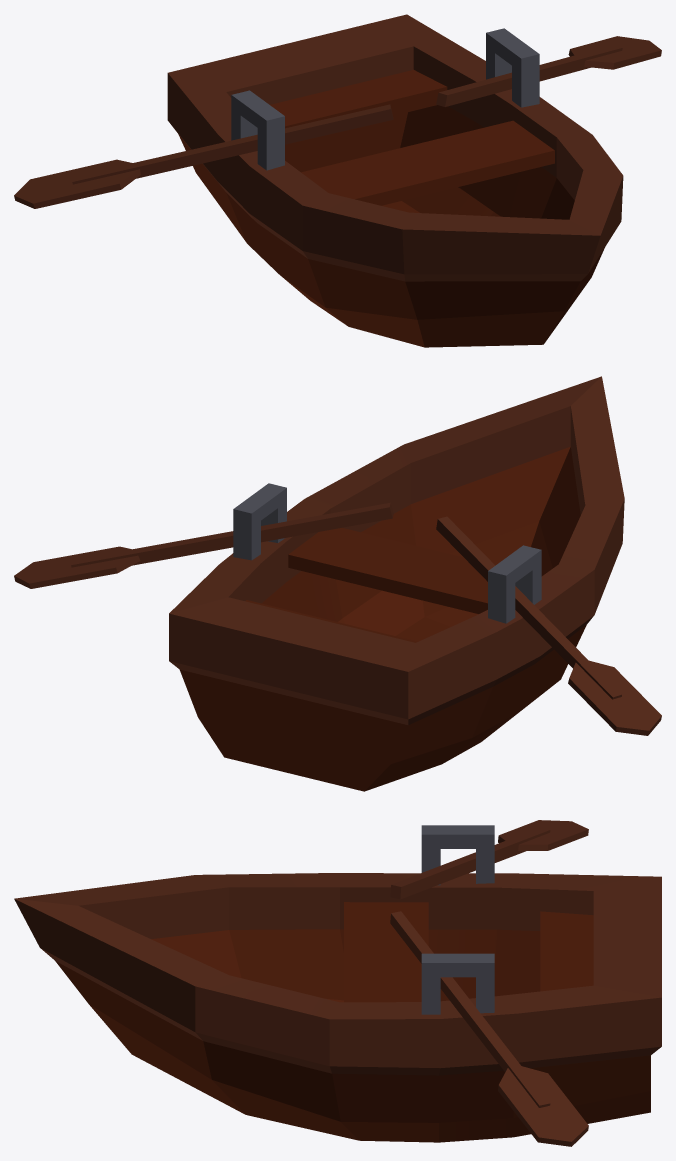
Rendered from Boat.fbx.
3 views of the same model, one above another, from view 1: azimuth 30°, elevation 25°; view 2: azimuth 150°, elevation 25°; view 3: azimuth 270°, elevation 25° (orthographic). The views are drawn at different scales.
Visible parts, largest first — view 1: Boat; view 2: Boat; view 3: Boat.
Boxes of the visible parts, <box> form: Boat: <box>14,14,661,347</box>; Boat: <box>14,376,661,791</box>; Boat: <box>14,820,661,1146</box>.
Bounding box in the file's own units: 116 × 35.6 × 99.23.
